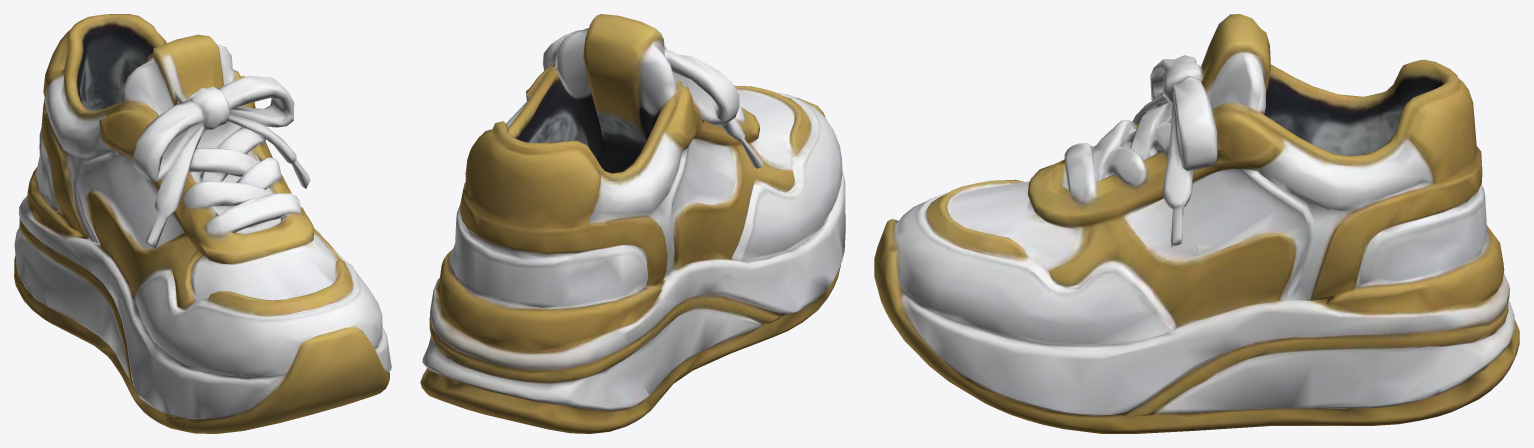
Rendered from shoe-gold.glb.
3 renders of one model, left to right at view 1: azimuth 30°, elevation 25°; view 2: azimuth 150°, elevation 25°; view 3: azimuth 270°, elevation 25°, orthographic. The views are drawn at different scales.
Parts seen in each view (by area): view 1: shoe-gold; view 2: shoe-gold; view 3: shoe-gold.
Boxes of the visible parts, x1,y1,x2,y2 form: shoe-gold: (14,14,391,433); shoe-gold: (420,14,845,433); shoe-gold: (874,14,1519,433).
Size of the model in its own units: 0.4661 by 0.6007 by 1.
1 material, 1 textured.
